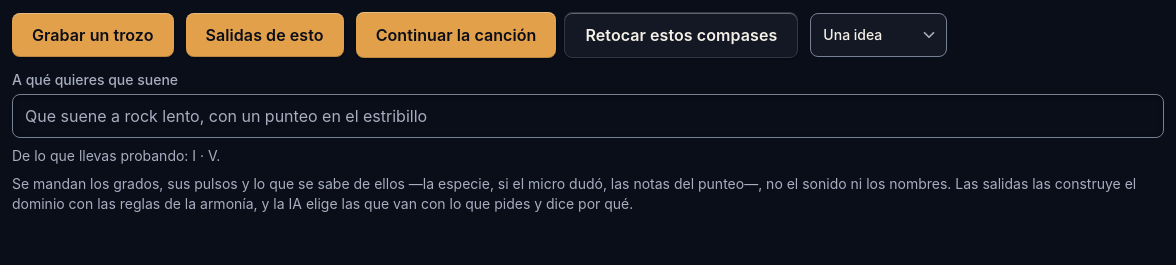
Test: lo que se enseña › sin red se dice, en vez de quedarse pensando para siempre
The image size is (1176, 265).
Click the button "Salidas de esto": click(265, 35) [186,13,344,57]
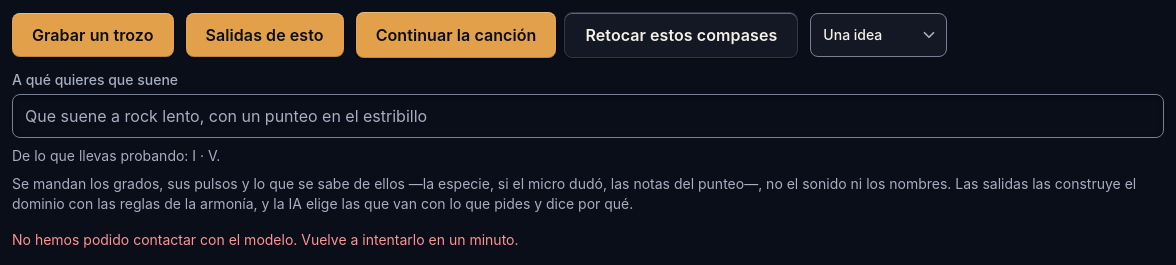
Expected: the message "No hemos podido contactar con el modelo. Vuelve a intentarlo en un minuto." is shown, [12,231,518,248]
